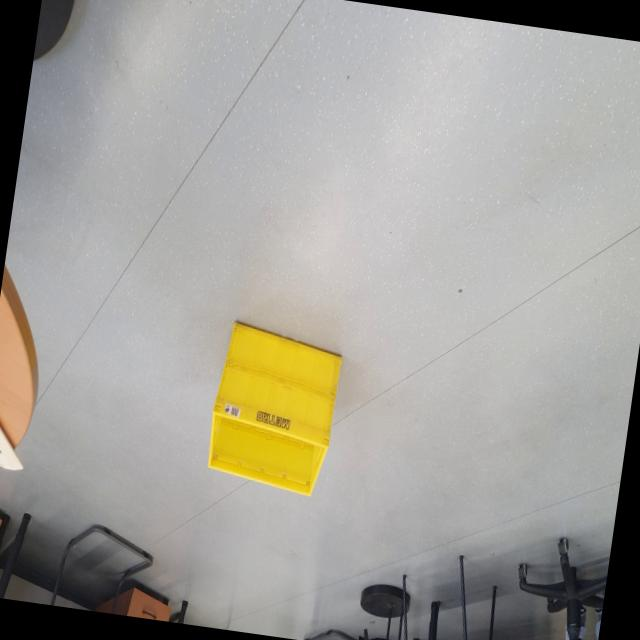box: (200, 298, 362, 502)
